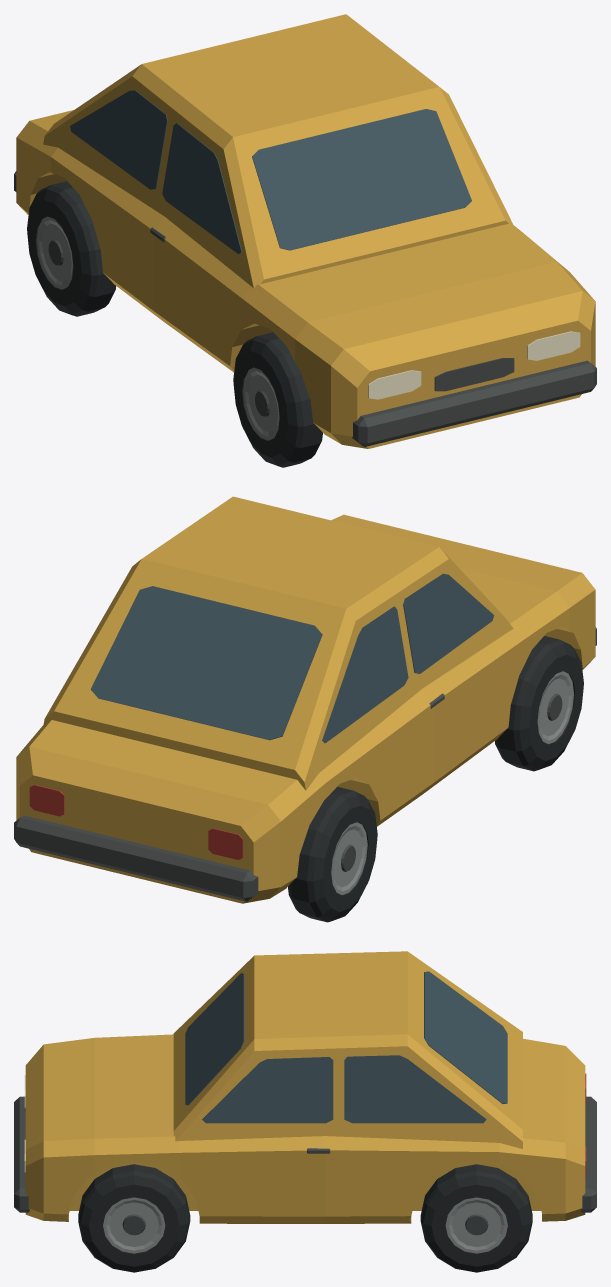
The model's file is car.glb.
3 views of the same model, one above another, from view 1: azimuth 30°, elevation 25°; view 2: azimuth 150°, elevation 25°; view 3: azimuth 270°, elevation 25° (orthographic). The views are drawn at different scales.
Visible parts, largest first — view 1: Car_Body, Car_Cabin, Car_Window_Windshield, Car_Bumper_Front, Car_Wheel_Front_R, Car_Wheel_Rear_R, Car_Window_Rear_R, Car_Window_Front_R, Car_Rim_Rear_R_Outer, Car_Rim_Front_R_Outer, Car_Grille, Car_Headlight_L (+1 smaller); view 2: Car_Body, Car_Cabin, Car_Window_Rear, Car_Bumper_Rear, Car_Wheel_Rear_R, Car_Wheel_Front_R, Car_Window_Rear_R, Car_Window_Front_R, Car_Rim_Front_R_Outer, Car_Rim_Rear_R_Outer, Car_RearLight_R, Car_RearLight_L; view 3: Car_Body, Car_Cabin, Car_Window_Rear_L, Car_Wheel_Front_L, Car_Wheel_Rear_L, Car_Window_Front_L, Car_Window_Rear, Car_Window_Windshield, Car_Rim_Front_L_Outer, Car_Rim_Rear_L_Outer, Car_Bumper_Rear, Car_Bumper_Front.
Part boxes in pixels (x1=…): Car_Body: x1=16, y1=110, x2=595, y2=448; Car_Cabin: x1=43, y1=14, x2=513, y2=288; Car_Window_Windshield: x1=252, y1=109, x2=471, y2=250; Car_Bumper_Front: x1=352, y1=360, x2=596, y2=446; Car_Wheel_Front_R: x1=233, y1=332, x2=322, y2=467; Car_Wheel_Rear_R: x1=27, y1=181, x2=116, y2=316; Car_Window_Rear_R: x1=70, y1=90, x2=167, y2=189; Car_Window_Front_R: x1=162, y1=123, x2=241, y2=254; Car_Rim_Rear_R_Outer: x1=37, y1=216, x2=73, y2=289; Car_Rim_Front_R_Outer: x1=243, y1=367, x2=279, y2=440; Car_Grille: x1=434, y1=358, x2=514, y2=391; Car_Headlight_L: x1=527, y1=331, x2=580, y2=360; Car_Body: x1=16, y1=514, x2=595, y2=903; Car_Cabin: x1=43, y1=496, x2=513, y2=790; Car_Window_Rear: x1=90, y1=586, x2=322, y2=740; Car_Bumper_Rear: x1=14, y1=815, x2=258, y2=901; Car_Wheel_Rear_R: x1=288, y1=786, x2=377, y2=922; Car_Wheel_Front_R: x1=495, y1=636, x2=583, y2=771; Car_Window_Rear_R: x1=322, y1=606, x2=408, y2=743; Car_Window_Front_R: x1=403, y1=573, x2=493, y2=673; Car_Rim_Front_R_Outer: x1=537, y1=671, x2=573, y2=744; Car_Rim_Rear_R_Outer: x1=331, y1=822, x2=367, y2=894; Car_RearLight_R: x1=208, y1=828, x2=243, y2=859; Car_RearLight_L: x1=29, y1=785, x2=64, y2=816; Car_Body: x1=25, y1=1034, x2=585, y2=1223; Car_Cabin: x1=173, y1=951, x2=522, y2=1148; Car_Window_Rear_L: x1=344, y1=1055, x2=486, y2=1123; Car_Wheel_Front_L: x1=78, y1=1164, x2=190, y2=1272; Car_Wheel_Rear_L: x1=420, y1=1164, x2=532, y2=1272; Car_Window_Front_L: x1=202, y1=1057, x2=333, y2=1123; Car_Window_Rear: x1=424, y1=971, x2=507, y2=1103; Car_Window_Windshield: x1=185, y1=973, x2=244, y2=1105; Car_Rim_Front_L_Outer: x1=103, y1=1197, x2=165, y2=1253; Car_Rim_Rear_L_Outer: x1=445, y1=1197, x2=507, y2=1253; Car_Bumper_Rear: x1=580, y1=1096, x2=596, y2=1212; Car_Bumper_Front: x1=14, y1=1096, x2=29, y2=1212.
Bounding box in the file's own units: 1.72 × 1.5 × 3.54.
